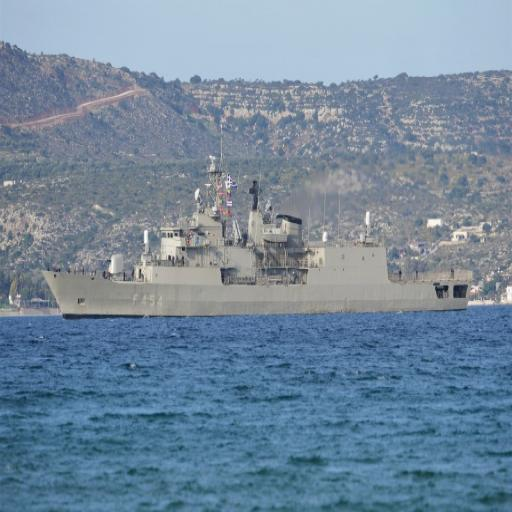Fragata: (39, 158, 471, 328)
